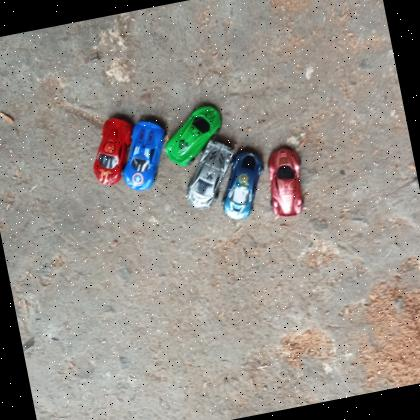Car: (176, 134, 245, 214), (113, 116, 177, 195), (158, 102, 231, 169), (213, 148, 273, 224), (84, 113, 142, 189), (260, 144, 312, 220)
